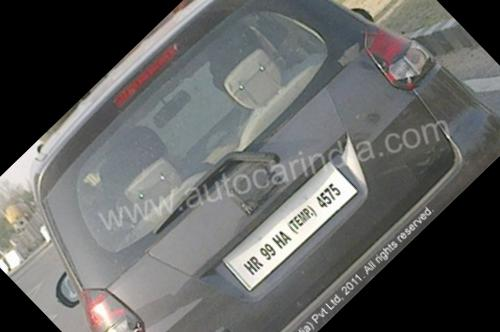plate: (205, 137, 381, 309)
